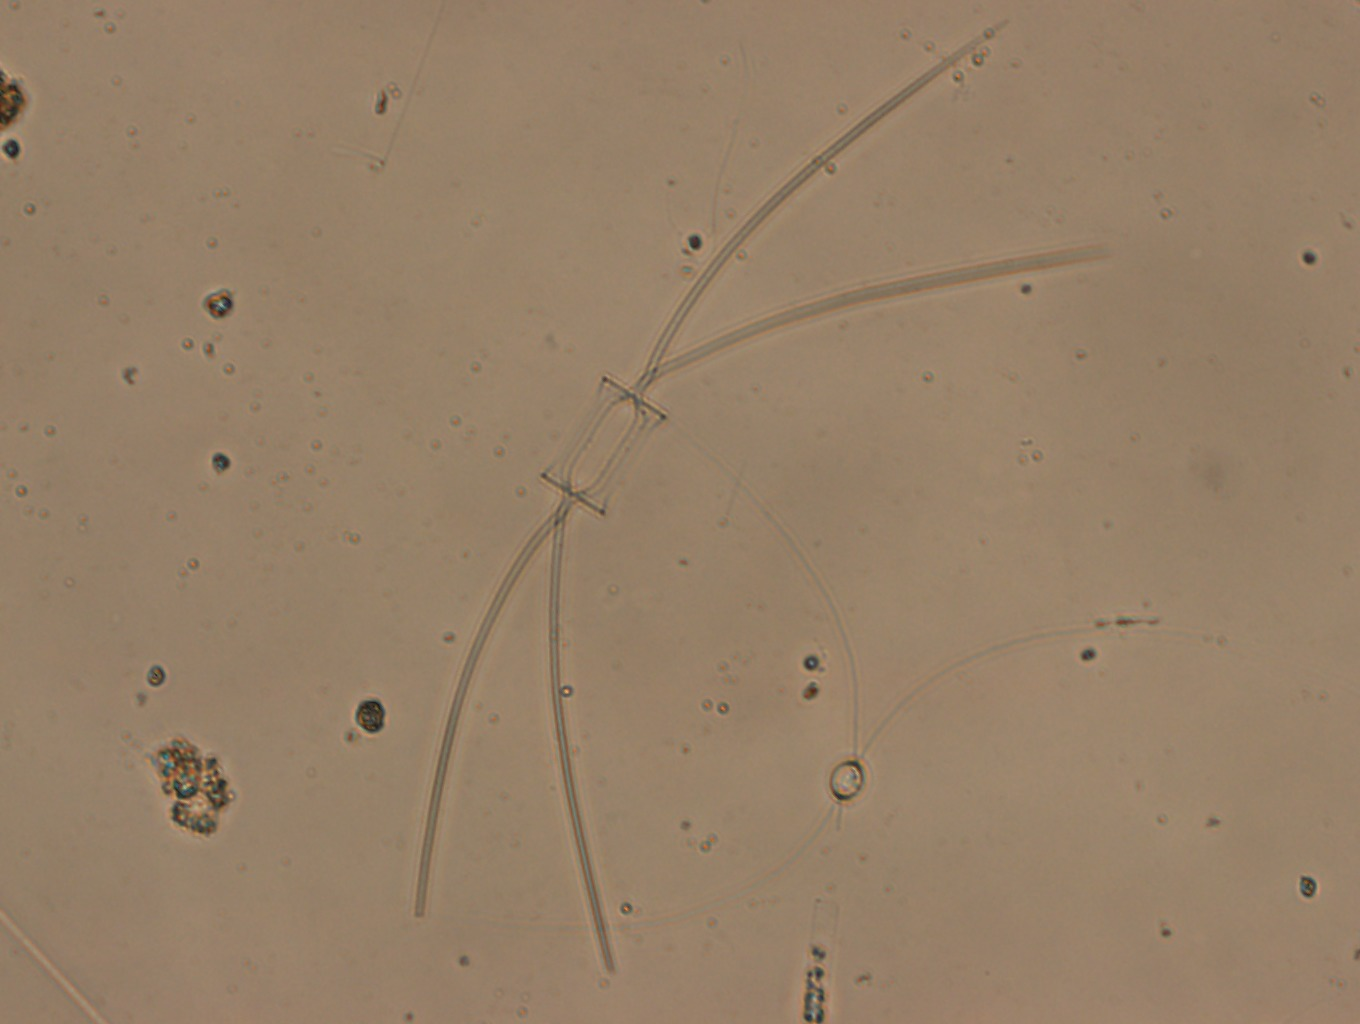chaetoceros: (398, 9, 1118, 990)
